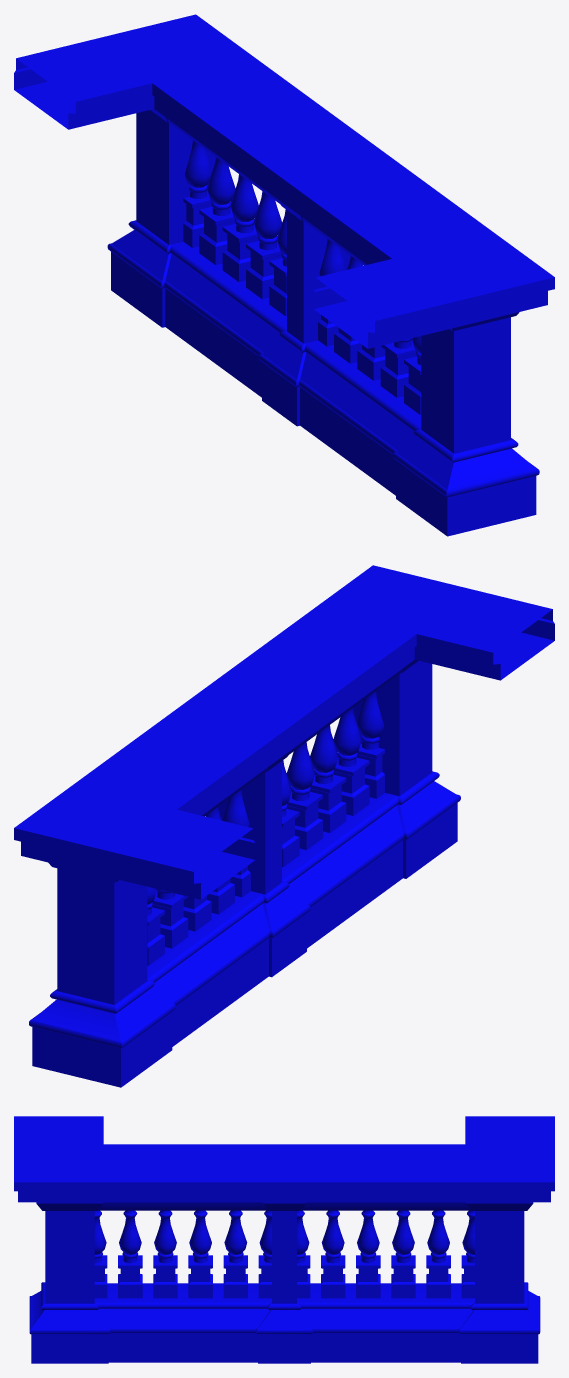
File: Window02_f.FBX
The picture shows the model from 3 angles, top to bottom: view 1: azimuth 30°, elevation 25°; view 2: azimuth 150°, elevation 25°; view 3: azimuth 270°, elevation 25°; orthographic projection. The views are drawn at different scales.
Parts seen in each view (by area): view 1: Object062; view 2: Object062; view 3: Object062.
Boxes of the visible parts, <box> form: Object062: <box>14,14,554,536</box>; Object062: <box>14,565,554,1087</box>; Object062: <box>14,1116,554,1363</box>.
Bounding box in the file's own units: 119 × 151 × 402.
